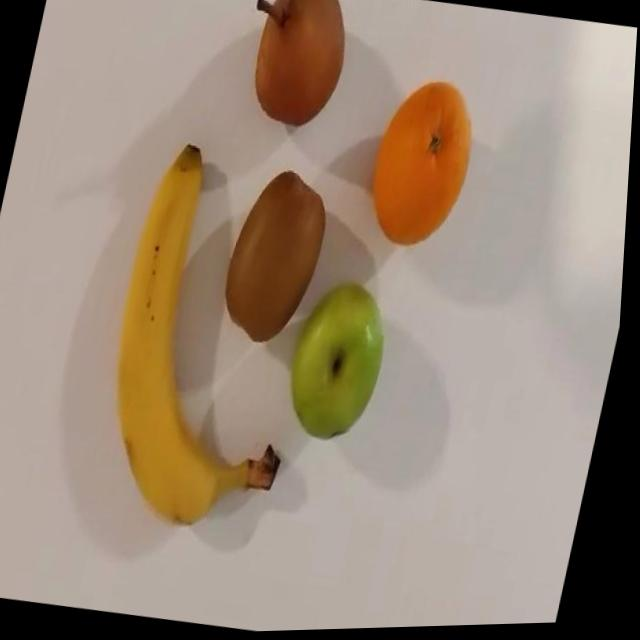Apple: (281, 279, 403, 451)
Banana: (83, 138, 349, 546)
Orange: (361, 76, 488, 259)
